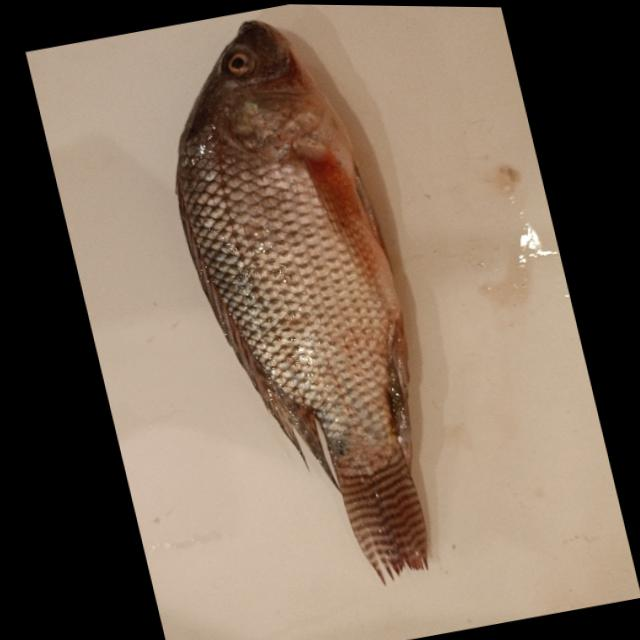Tilapia: (136, 2, 469, 612)
